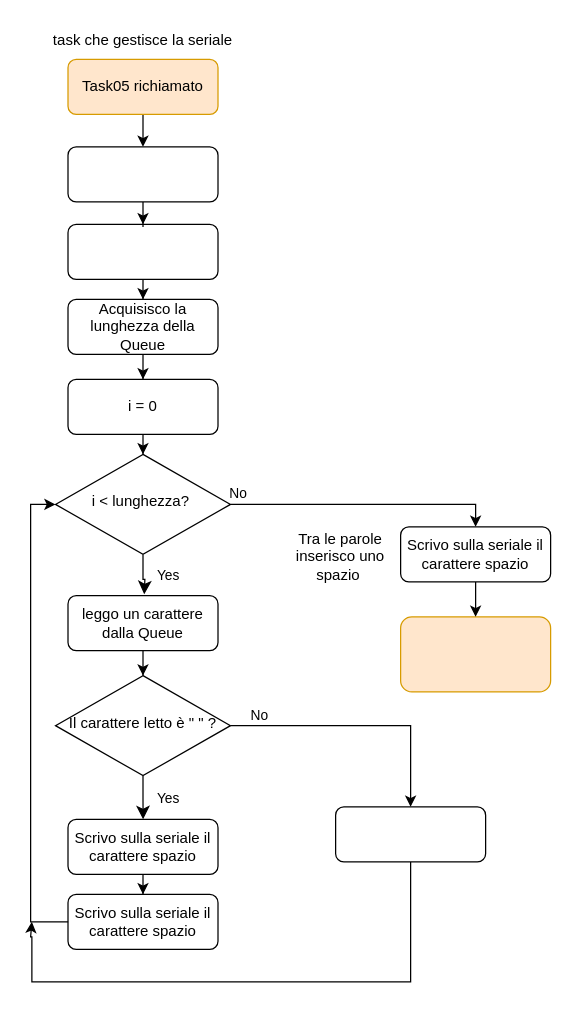
Image size: 573x1014. Some labels were removed from this diagram. Here are the shapes that lost their labels. From the top down, the centre of each, then its label:
At pixel 142 174: "Aspetto che il semaforo binario 2 sia disponibile".
At pixel 142 251: "Acquisisco il semaforo binario 2".
At pixel 475 654: "Rilascio il Semaforo counter".
At pixel 410 834: "Scrivo sulla seriale il carattere letto".
